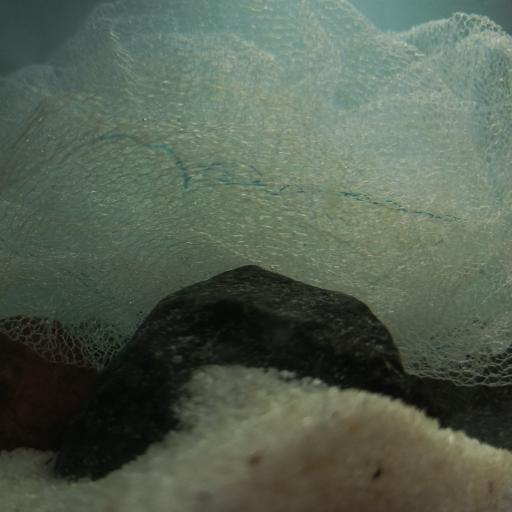net: (1, 0, 512, 391)
